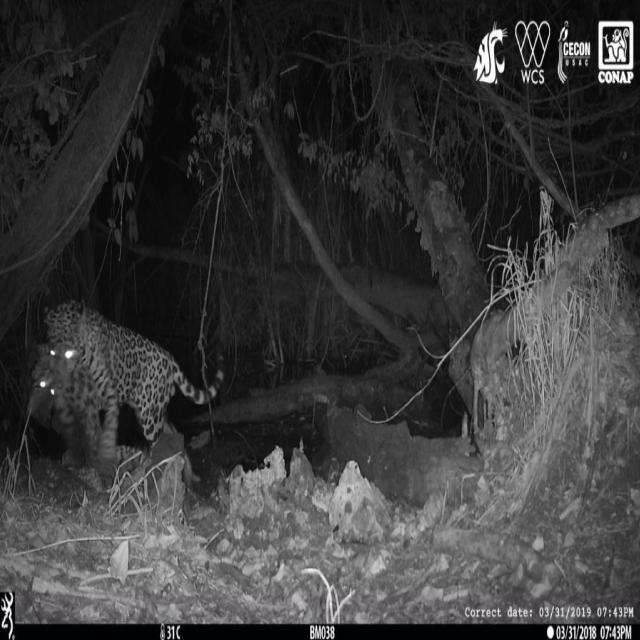Jaguar: (42, 296, 226, 454), (30, 360, 141, 458)
